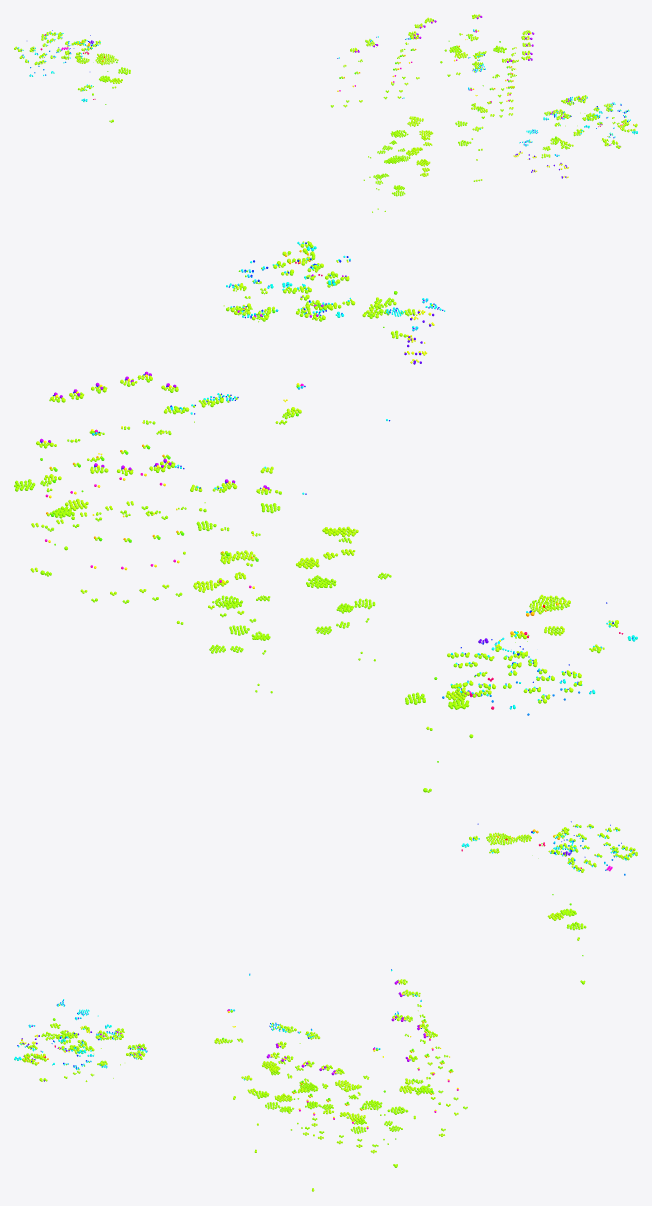
Rendered from task-a1bb7ea4a-layout.gltf.
The picture shows the model from 3 angles, top to bottom: view 1: azimuth 30°, elevation 25°; view 2: azimuth 150°, elevation 25°; view 3: azimuth 270°, elevation 25°; orthographic projection. The views are drawn at different scales.
Visible parts, largest first — view 1: normal_c_files, normal_h_files, normal_no_ext_files; view 2: normal_c_files, normal_h_files, normal_no_ext_files; view 3: normal_c_files, normal_h_files, normal_no_ext_files.
Part boxes in pixels (x1,y1,x2,y2): normal_c_files: [14, 14, 637, 181]; normal_h_files: [15, 14, 636, 212]; normal_no_ext_files: [18, 32, 630, 155]; normal_c_files: [30, 241, 618, 729]; normal_h_files: [14, 241, 617, 792]; normal_no_ext_files: [170, 241, 610, 700]; normal_c_files: [22, 824, 637, 1191]; normal_h_files: [25, 825, 637, 1189]; normal_no_ext_files: [18, 826, 633, 1080].
Size of the model in its own units: 703 by 236 by 740.
